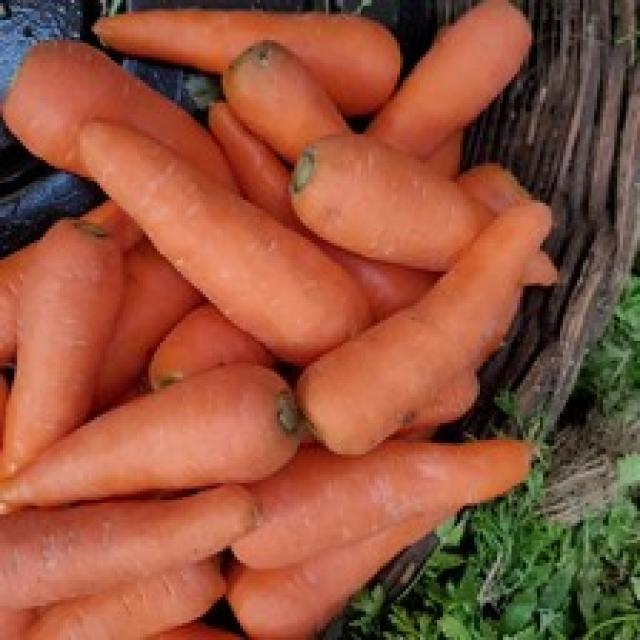Fresh_Carrot: (83, 108, 363, 350), (0, 359, 276, 523), (364, 218, 573, 430)
